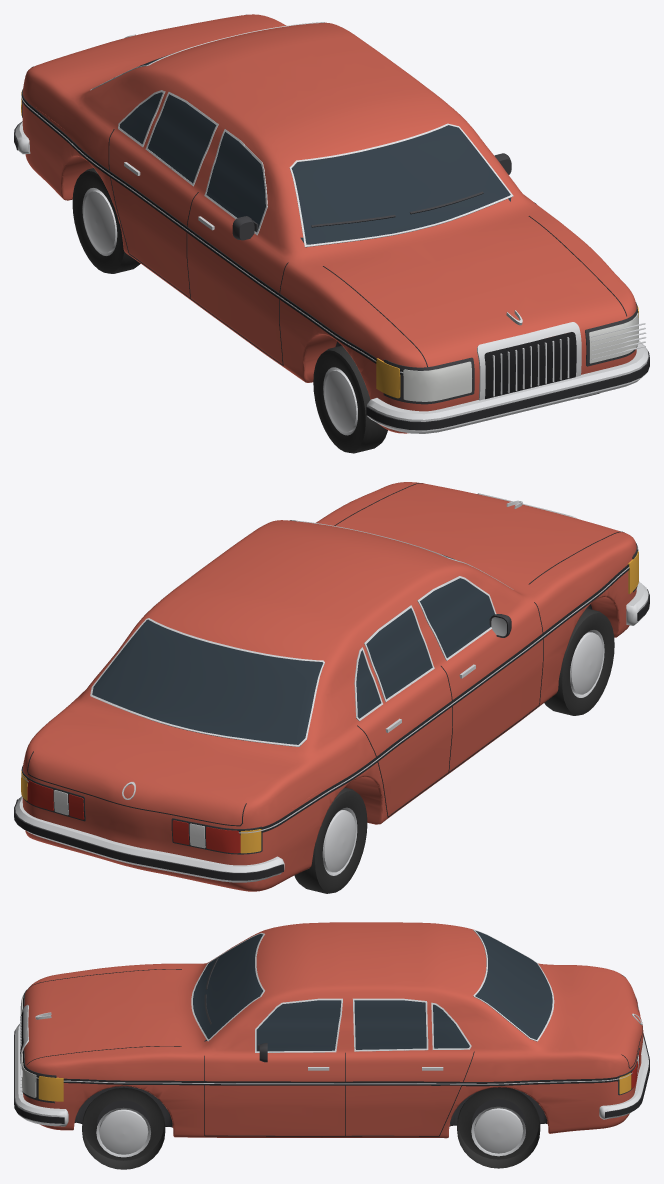
The picture shows the model from 3 angles, top to bottom: view 1: azimuth 30°, elevation 25°; view 2: azimuth 150°, elevation 25°; view 3: azimuth 270°, elevation 25°; orthographic projection. The views are drawn at different scales.
Visible parts, largest first — view 1: paint, glass, trim, wheel_fr, wheel_rr, headlights, front_blinker_right, mirrors; view 2: paint, glass, trim, wheel_fr, wheel_rr, taillights, reverse_lights; view 3: paint, glass, trim, wheel_fl, wheel_rl, front_blinker_left, headlights.
Boxes of the visible parts, x1=… form: paint: x1=22, y1=14, x2=636, y2=433; glass: x1=114, y1=55, x2=511, y2=247; trim: x1=14, y1=14, x2=649, y2=433; wheel_fr: x1=313, y1=345, x2=387, y2=453; wheel_rr: x1=72, y1=168, x2=140, y2=273; headlights: x1=403, y1=312, x2=638, y2=401; front_blinker_right: x1=376, y1=358, x2=400, y2=398; mirrors: x1=232, y1=153, x2=511, y2=240; paint: x1=22, y1=482, x2=636, y2=891; glass: x1=92, y1=554, x2=494, y2=744; trim: x1=14, y1=483, x2=649, y2=882; wheel_fr: x1=544, y1=608, x2=614, y2=715; wheel_rr: x1=294, y1=787, x2=367, y2=893; taillights: x1=27, y1=780, x2=240, y2=853; reverse_lights: x1=54, y1=790, x2=205, y2=848; paint: x1=23, y1=922, x2=643, y2=1138; glass: x1=193, y1=930, x2=552, y2=1051; trim: x1=14, y1=930, x2=649, y2=1136; wheel_fl: x1=82, y1=1087, x2=165, y2=1169; wheel_rl: x1=457, y1=1087, x2=540, y2=1168; front_blinker_left: x1=38, y1=1076, x2=63, y2=1101; headlights: x1=20, y1=993, x2=36, y2=1097.
Size of the model in its own units: 1.82 by 1.44 by 4.74.
